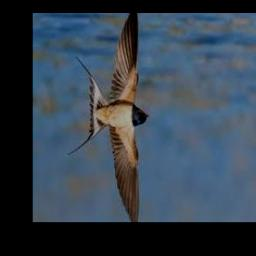Swallow: (67, 13, 148, 222)
